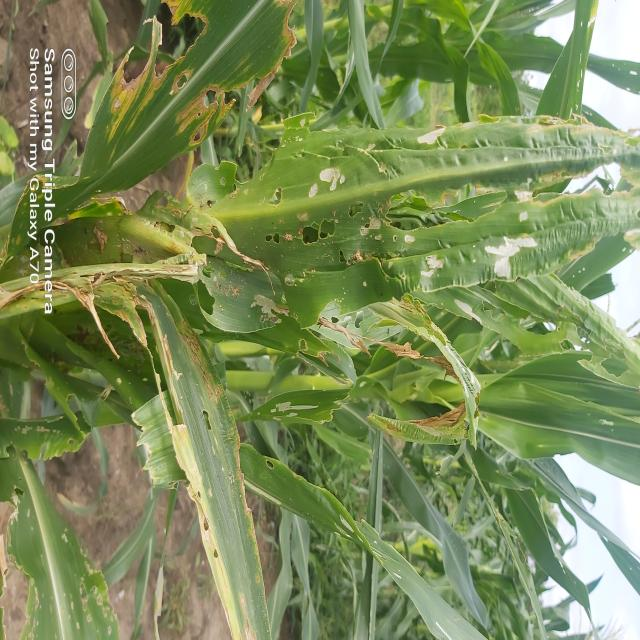fall-armyworm-frass: (72, 206, 118, 271), (196, 214, 238, 283)
fall-armyworm-larval-damage: (118, 0, 242, 169), (514, 102, 640, 241), (251, 103, 444, 183), (260, 183, 394, 295), (0, 372, 115, 493), (140, 296, 216, 466), (278, 316, 359, 458), (468, 190, 514, 378), (527, 308, 629, 388), (235, 28, 304, 111)
